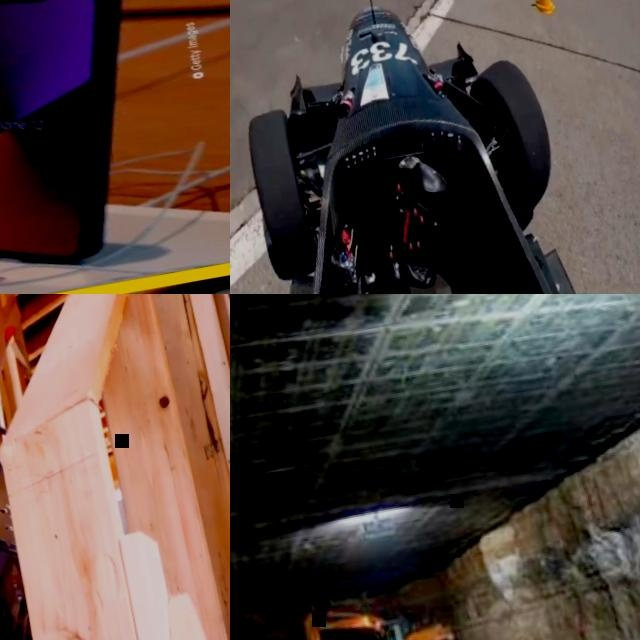Person: (0, 294, 80, 640)
Safety Cone: (526, 0, 557, 18)
machinery: (298, 584, 464, 640)
vehicle: (230, 0, 582, 294)
